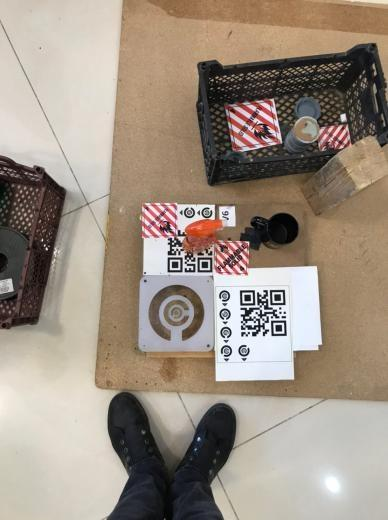flammable-solid: (225, 97, 284, 158), (212, 241, 251, 274), (141, 202, 176, 237), (317, 125, 351, 153)
